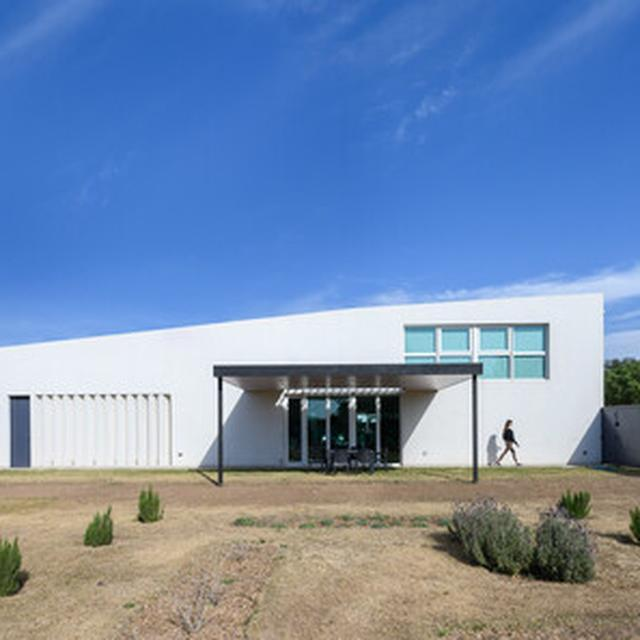building: (0, 291, 609, 462)
